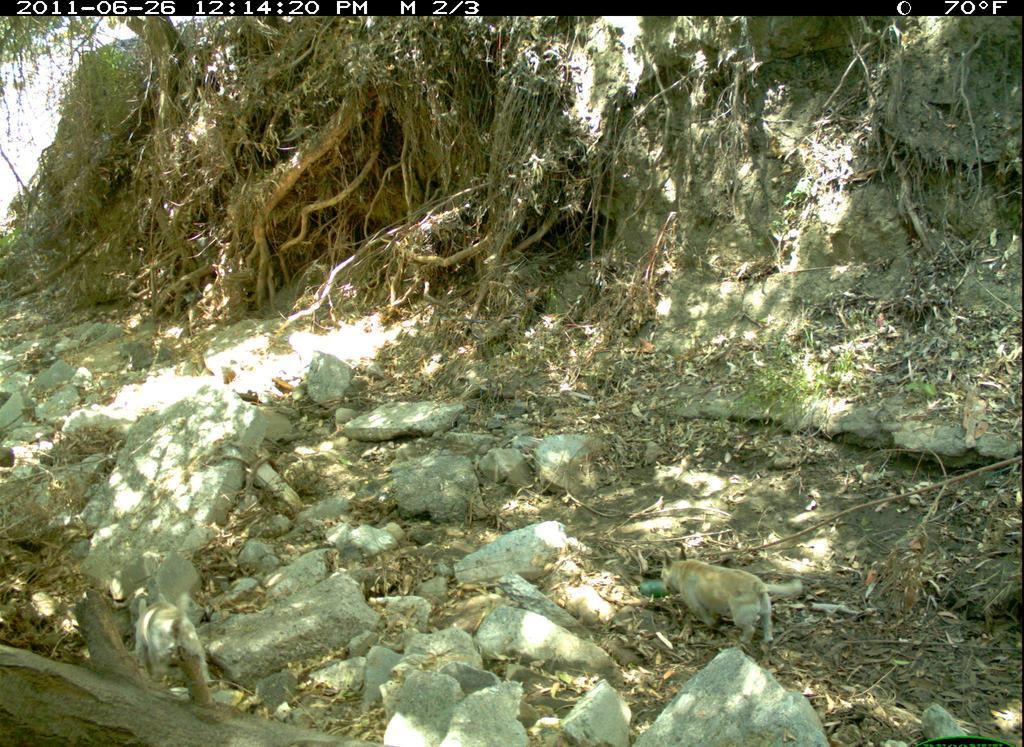dog: (657, 547, 806, 651)
